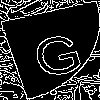G: (25, 24, 87, 80)
